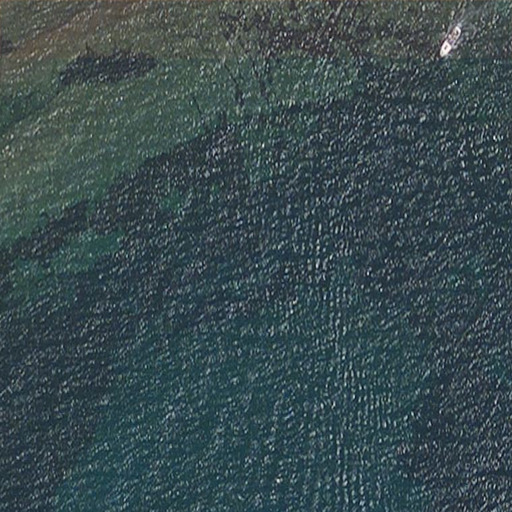ship: (437, 25, 465, 59)
